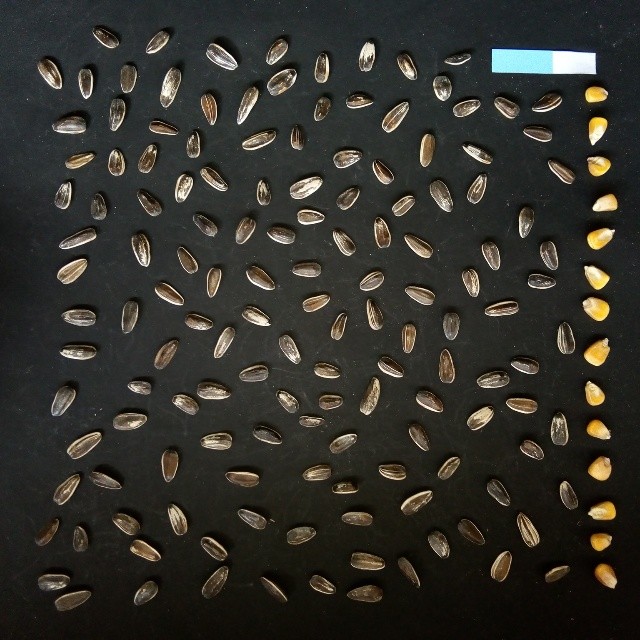escala: (491, 47, 595, 73)
girasol: (61, 426, 106, 461), (155, 63, 185, 112), (511, 507, 544, 551), (395, 488, 441, 517), (197, 563, 233, 600), (255, 571, 292, 607), (53, 253, 92, 287), (125, 230, 157, 271), (422, 177, 456, 215), (50, 469, 83, 508), (355, 375, 385, 417), (341, 580, 386, 608), (392, 552, 425, 590), (161, 499, 192, 539), (239, 126, 283, 154), (432, 346, 462, 387), (376, 99, 411, 134), (401, 420, 436, 455), (457, 138, 499, 167), (34, 55, 66, 93), (202, 40, 241, 71), (399, 230, 438, 261), (234, 82, 262, 125), (543, 155, 579, 188), (452, 515, 489, 547), (194, 532, 232, 563), (156, 445, 184, 487), (241, 263, 280, 293), (194, 427, 237, 454), (248, 421, 288, 450), (132, 186, 167, 219), (274, 330, 306, 366), (422, 528, 454, 564), (56, 225, 100, 251), (220, 466, 264, 492), (287, 172, 326, 201), (265, 65, 299, 98), (463, 168, 491, 208), (482, 475, 514, 510), (83, 467, 126, 493), (152, 336, 183, 372), (48, 384, 79, 420), (344, 548, 388, 573), (128, 576, 162, 608), (125, 537, 165, 564), (231, 504, 271, 531), (436, 307, 466, 343), (462, 403, 498, 433), (547, 409, 574, 449), (104, 510, 147, 535), (55, 589, 98, 614), (150, 278, 187, 307), (528, 88, 566, 116), (399, 281, 437, 309), (410, 387, 448, 415), (196, 88, 223, 127), (306, 356, 346, 382), (116, 298, 143, 336), (361, 294, 388, 332), (231, 214, 261, 248), (353, 36, 379, 75), (553, 317, 579, 356), (54, 340, 100, 362), (367, 214, 395, 250), (56, 305, 101, 327), (478, 236, 504, 274), (536, 238, 565, 272), (110, 409, 151, 433), (415, 129, 439, 170), (480, 296, 521, 320), (48, 113, 90, 136), (325, 430, 362, 456), (142, 26, 173, 57), (331, 181, 362, 212), (171, 244, 201, 276), (337, 507, 377, 531), (367, 156, 399, 186), (434, 452, 464, 484), (262, 33, 291, 66), (196, 165, 230, 193), (392, 49, 420, 83), (236, 303, 274, 328), (193, 378, 234, 401), (114, 58, 140, 94), (515, 202, 539, 241), (556, 476, 582, 512), (32, 517, 62, 548), (88, 22, 120, 51), (105, 96, 130, 133), (330, 225, 358, 258), (373, 353, 406, 381), (515, 436, 548, 464), (541, 560, 574, 588), (472, 368, 512, 391), (282, 522, 320, 546), (489, 548, 515, 583), (251, 174, 276, 210), (397, 319, 420, 358), (503, 394, 542, 417), (189, 210, 221, 238), (491, 93, 524, 120), (171, 170, 196, 205), (213, 325, 238, 360), (286, 257, 324, 280), (523, 270, 561, 293), (427, 72, 455, 103), (236, 362, 272, 386), (86, 190, 112, 223), (203, 264, 226, 301), (507, 354, 544, 377), (136, 141, 161, 175), (329, 145, 363, 170), (104, 144, 128, 179), (52, 178, 76, 213), (388, 191, 418, 219), (375, 459, 410, 483), (168, 391, 199, 418), (270, 388, 301, 415), (356, 268, 388, 294), (306, 571, 338, 597), (341, 88, 377, 111), (451, 96, 484, 121), (459, 267, 484, 300), (518, 123, 557, 144), (311, 48, 333, 85), (62, 148, 97, 171), (328, 308, 351, 343), (69, 522, 92, 557), (35, 570, 73, 591), (180, 310, 216, 332), (310, 392, 346, 414), (299, 461, 335, 483), (262, 225, 299, 246), (74, 65, 96, 100), (296, 291, 332, 312), (285, 120, 307, 154), (143, 117, 180, 137), (310, 93, 333, 124), (443, 48, 474, 70), (294, 207, 326, 226), (185, 128, 204, 159), (124, 378, 155, 397), (297, 414, 327, 431), (331, 480, 361, 496)
maiz: (580, 334, 615, 367), (583, 451, 619, 483), (588, 560, 622, 592), (583, 222, 619, 252), (579, 262, 615, 292), (584, 494, 621, 523), (578, 376, 610, 409), (583, 114, 613, 148), (579, 295, 613, 323), (582, 416, 616, 442), (584, 152, 614, 181), (589, 190, 621, 217), (582, 82, 612, 105), (586, 531, 616, 554)
